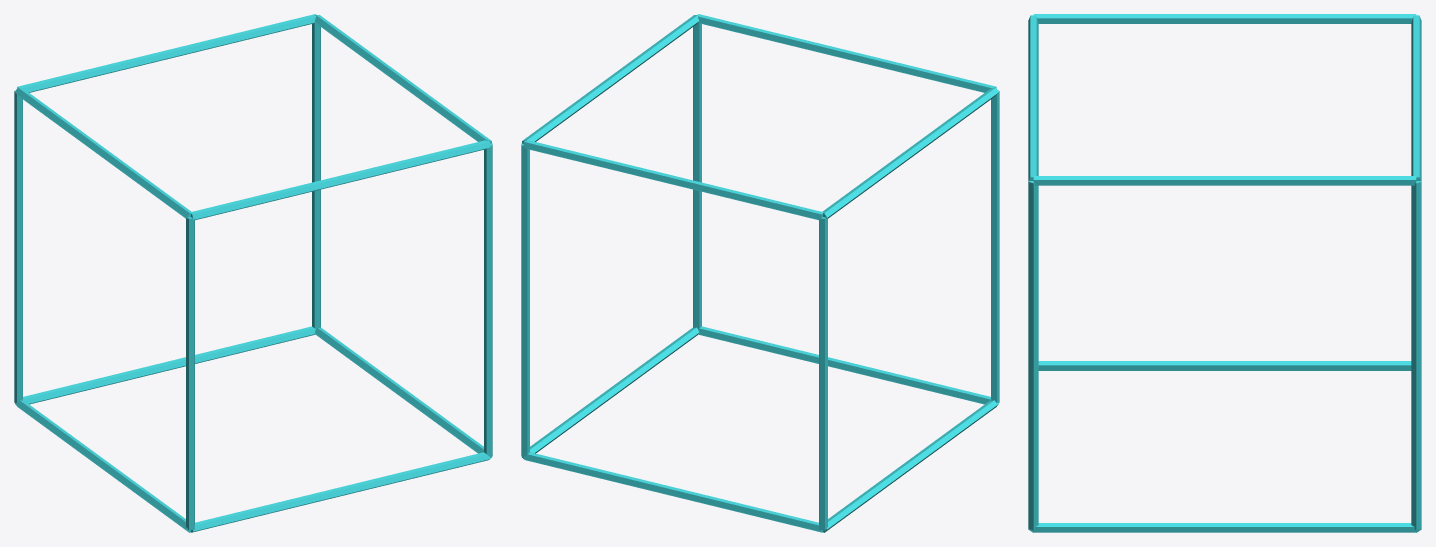
File: holograma_cubo.glb
3 views of the same model, side by side, from view 1: azimuth 30°, elevation 25°; view 2: azimuth 150°, elevation 25°; view 3: azimuth 270°, elevation 25° (orthographic). The views are drawn at different scales.
Visible parts, largest first — view 1: holograma_cubo; view 2: holograma_cubo; view 3: holograma_cubo.
Part boxes in pixels (x1=…): holograma_cubo: x1=14, y1=14, x2=492, y2=532; holograma_cubo: x1=521, y1=14, x2=999, y2=532; holograma_cubo: x1=1028, y1=14, x2=1421, y2=532.
Size of the model in its own units: 1.85 by 1.85 by 1.85.
